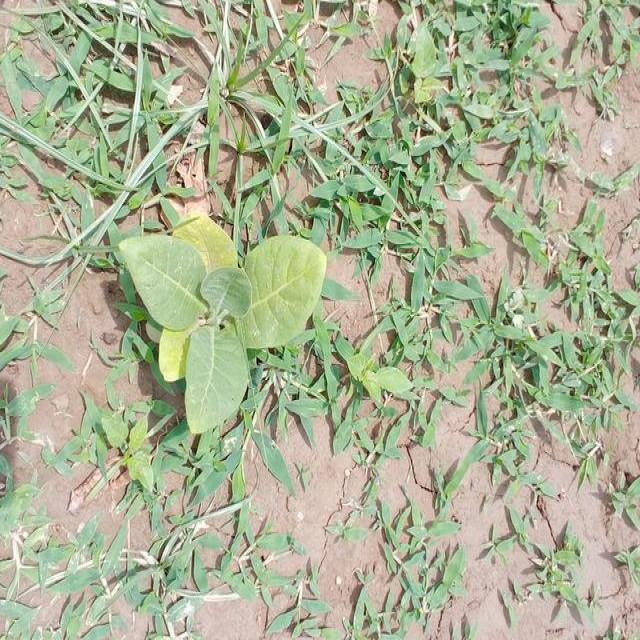crop: (120, 207, 334, 444)
